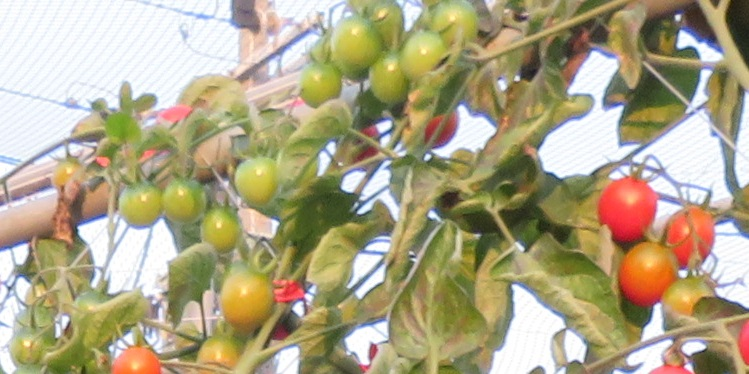green: (217, 263, 278, 329), (334, 16, 384, 68), (428, 1, 479, 47), (117, 180, 163, 230), (402, 27, 443, 81), (233, 152, 274, 201), (299, 63, 344, 107), (162, 175, 201, 221), (371, 47, 402, 104), (202, 206, 237, 249)
orange: (615, 240, 679, 305), (670, 204, 716, 269)
red: (601, 174, 654, 241)
